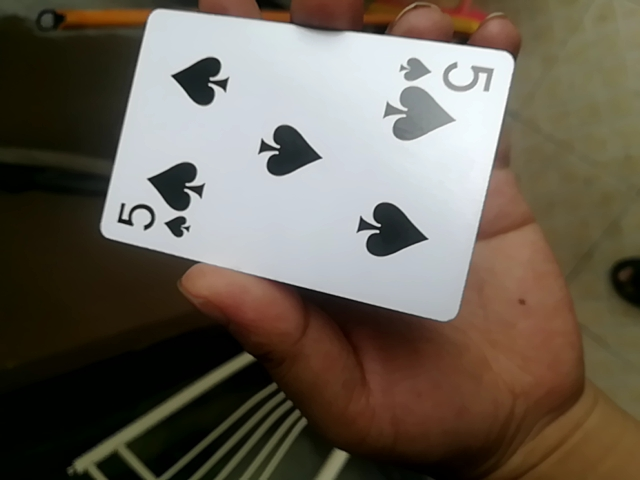ht 5: (94, 0, 525, 328)
